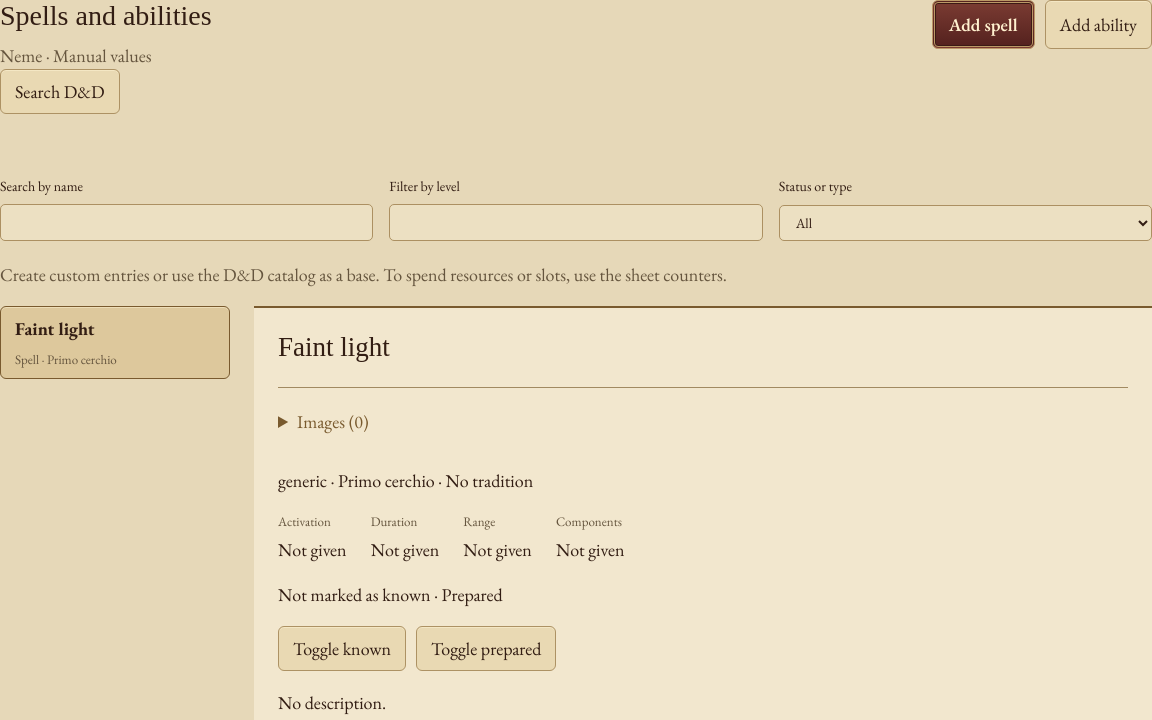
Test: filters manual abilities and flags do not change counters
The image size is (1152, 720).
Check: the element named "Entry details" is shown, box x1=254 y1=306 x2=1151 y2=719
Select "Known" in the dropdown labelled "Status or type": (965, 223) x1=779 y1=204 x2=1151 y2=241
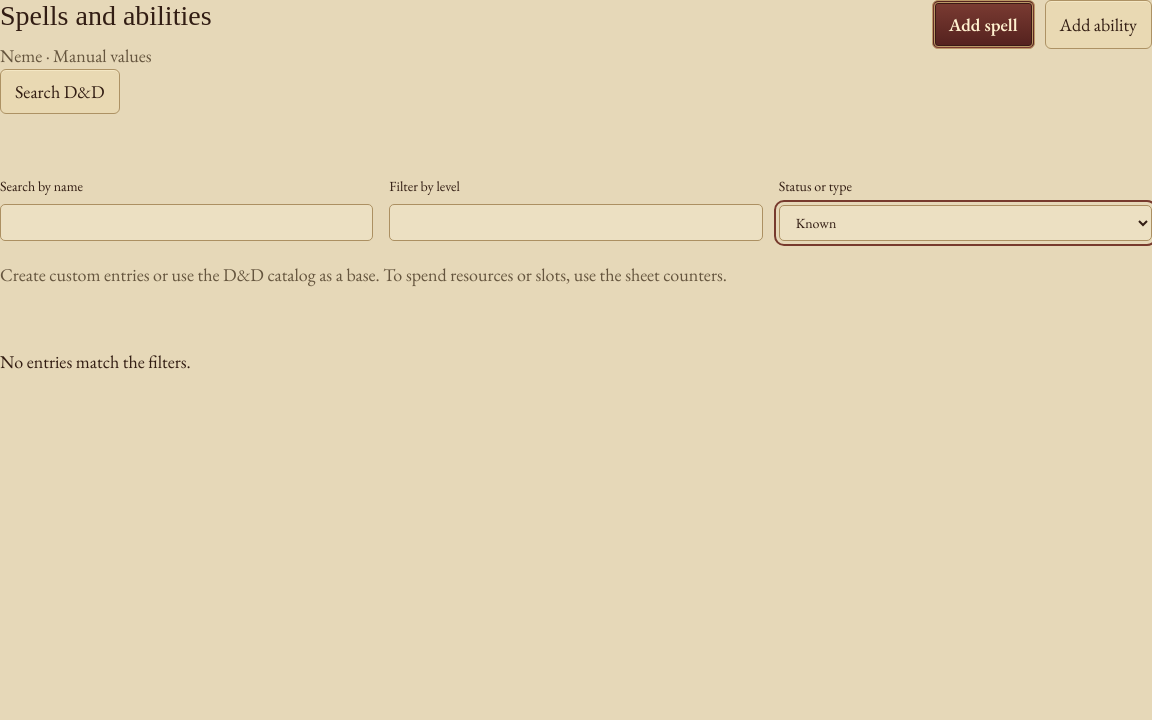
Select "Prepared" in the dropdown labelled "Status or type": (965, 223) x1=779 y1=204 x2=1151 y2=241
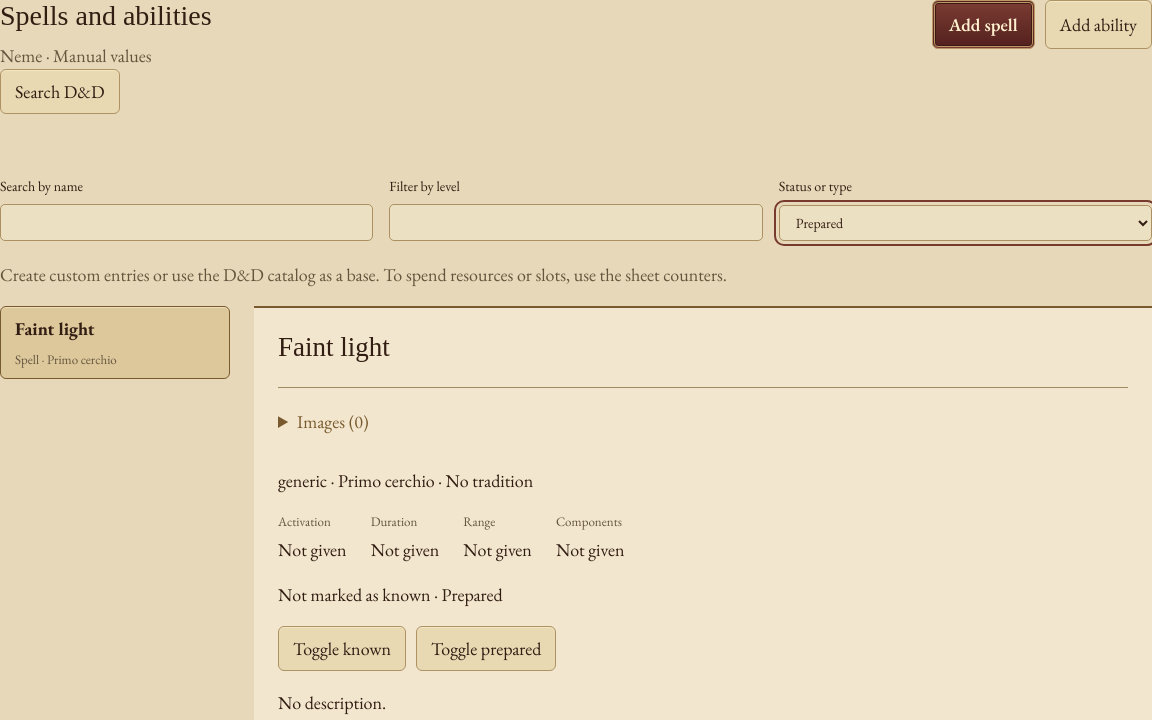
In the field labelled "Filter by level": (576, 222) x1=389 y1=204 x2=763 y2=241, type "Primo"
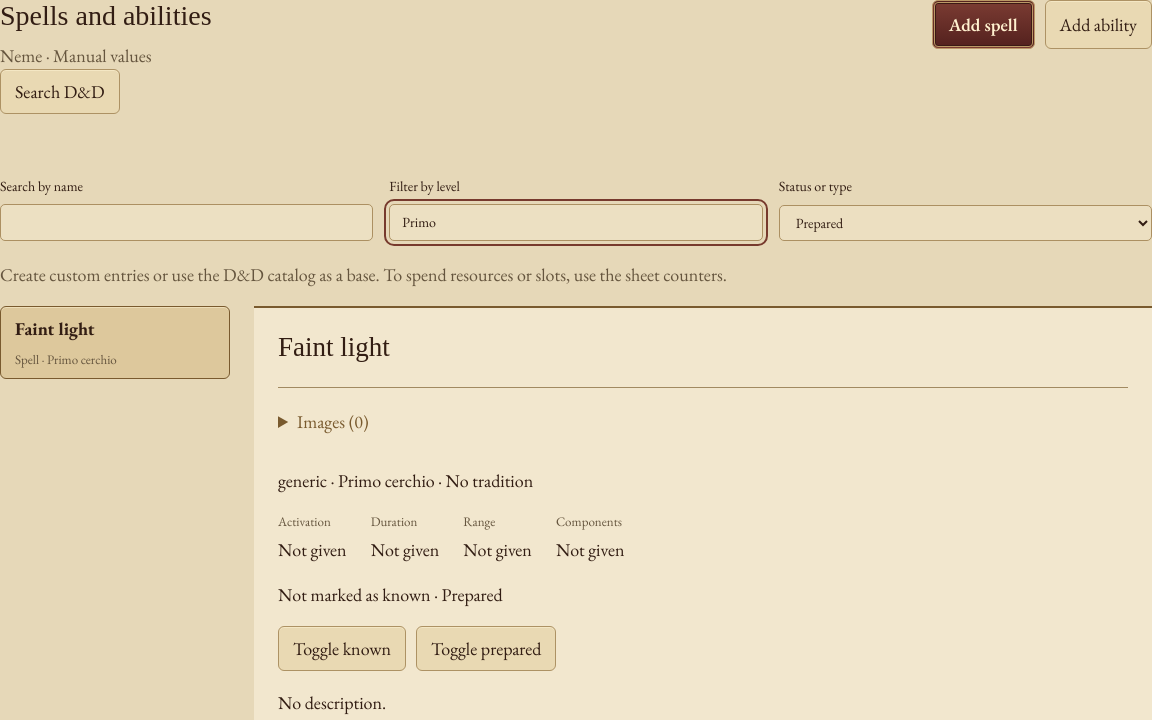
Click the button "Toggle known": (342, 648) x1=278 y1=626 x2=406 y2=670
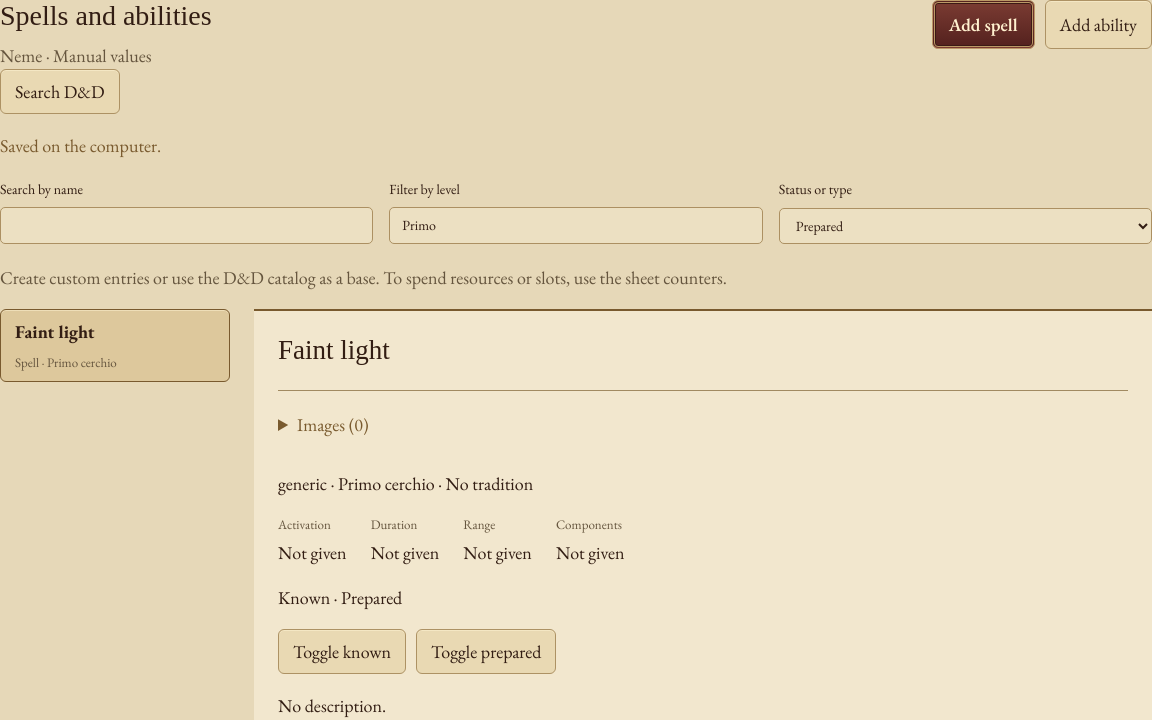
Check: the text "Known · Prepared" is shown, box x1=278 y1=586 x2=402 y2=608
In the search field labelled "Search by name": (187, 226) x1=0 y1=207 x2=373 y2=244, type "Assente"
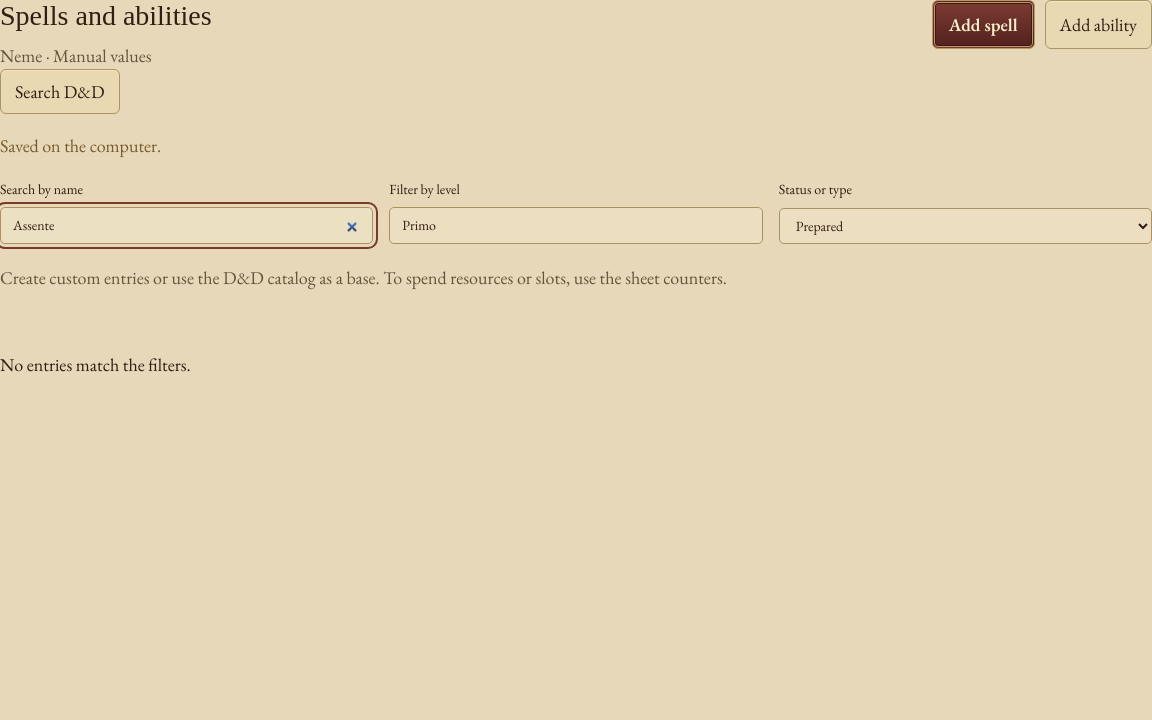
Check: the text "No entries match the filters." is shown, box x1=0 y1=353 x2=191 y2=376
